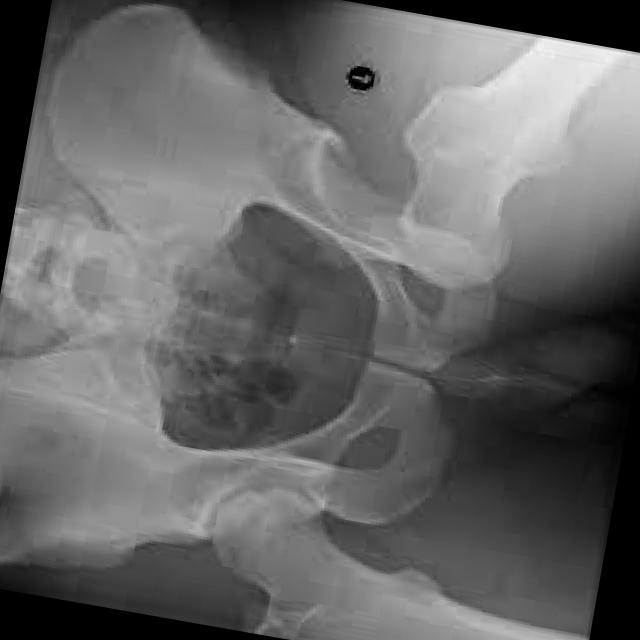left-dislocation: (397, 37, 630, 288)
normal-right: (211, 485, 587, 640)
